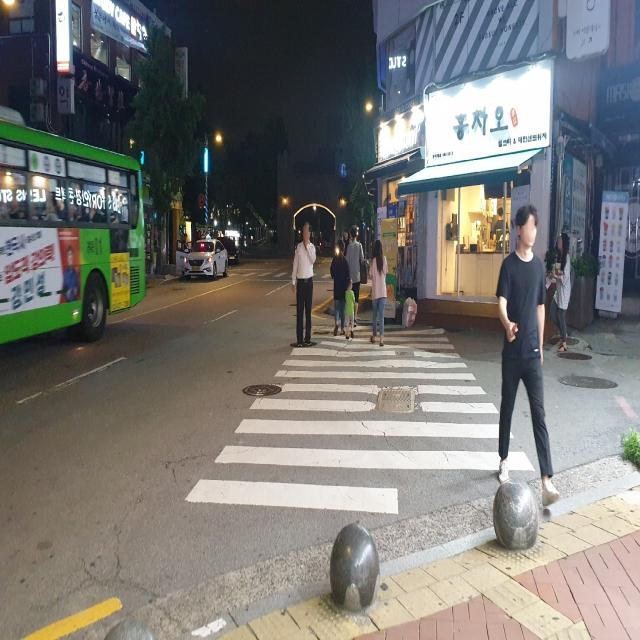횡단보도: (182, 322, 537, 518)
